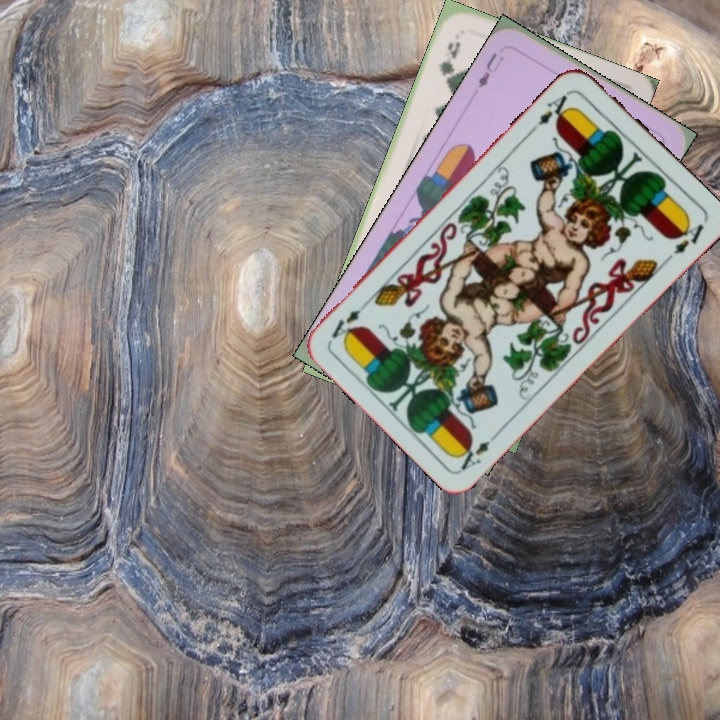EA: (453, 426, 503, 473), (533, 87, 575, 128)
EU: (474, 48, 507, 91)
G9: (435, 37, 463, 86)
